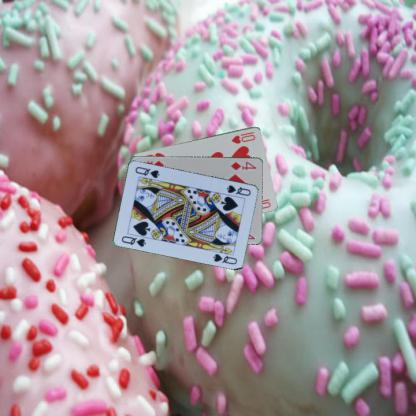10h: (229, 129, 256, 145)
4d: (228, 159, 258, 171)
Qs: (224, 182, 252, 197), (119, 233, 147, 248)
